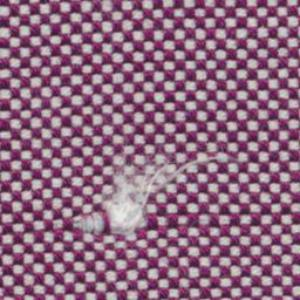fault: (62, 140, 227, 232)
